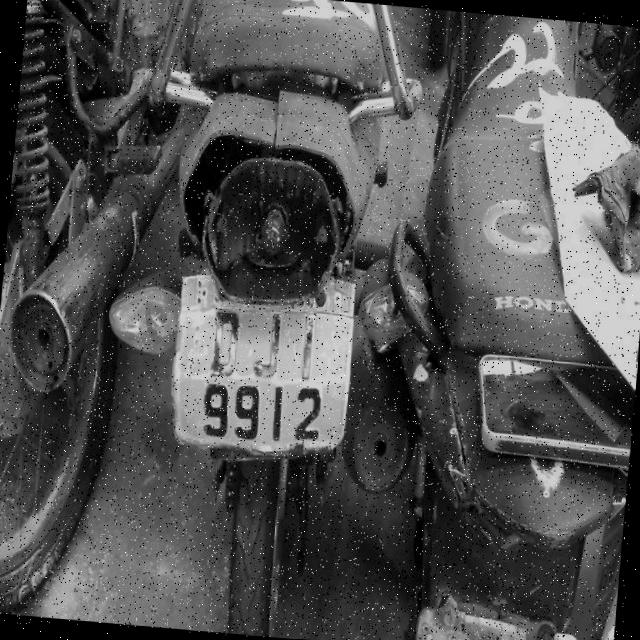numeros: (208, 310, 242, 380), (250, 308, 283, 379), (198, 379, 232, 442), (231, 382, 263, 443), (292, 384, 324, 443), (298, 312, 315, 382), (269, 384, 285, 444)
